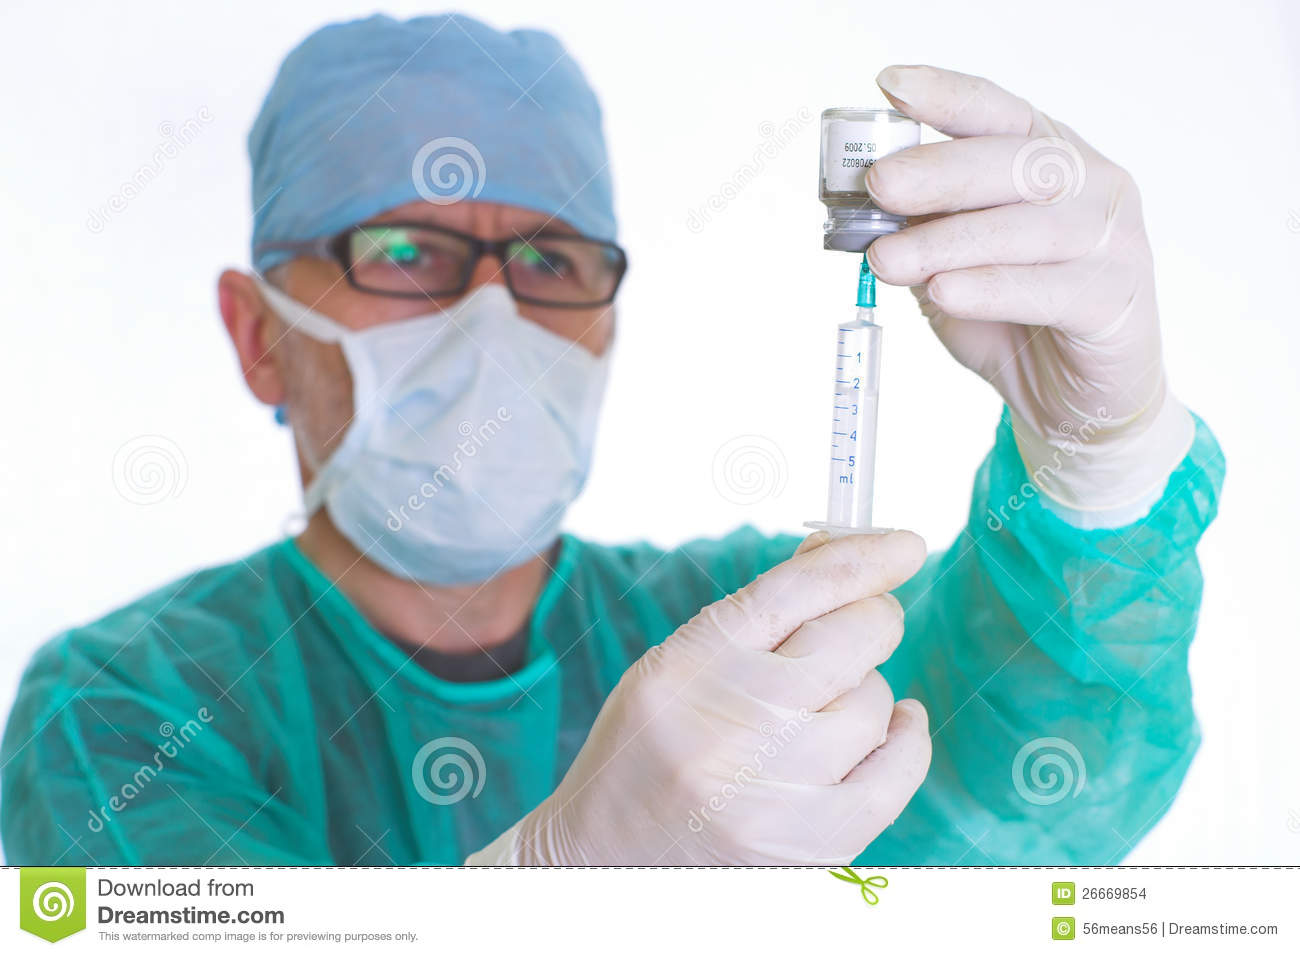mask: (322, 315, 623, 593)
